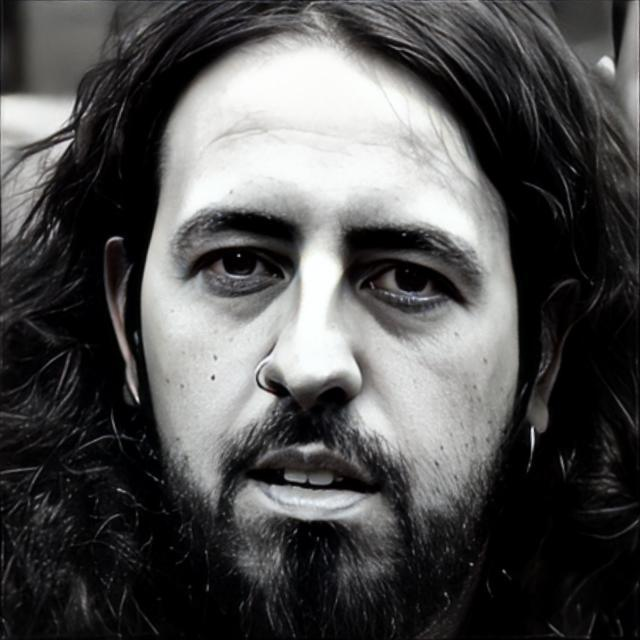disgust: (138, 25, 526, 640)
